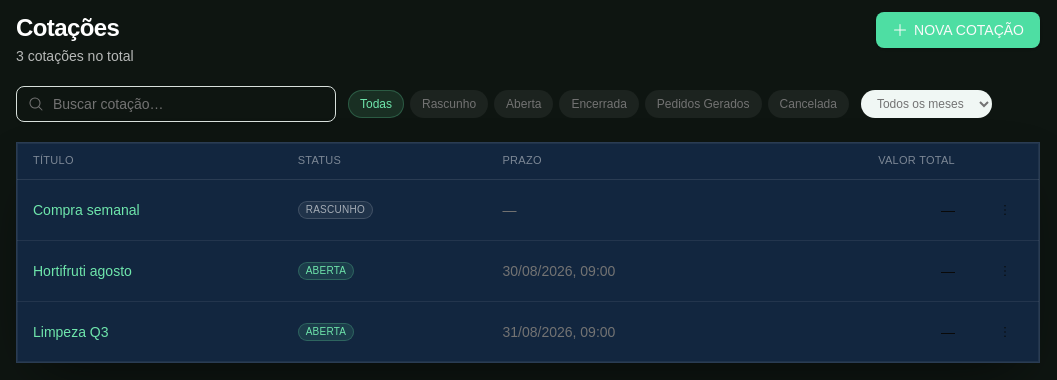
menu de cada linha não tem mais "Duplicar" (só Ver detalhes e Excluir)
The image size is (1057, 380).
Expected: the link "Compra semanal" is shown, x1=33 y1=202 x2=140 y2=218
Click the button named "mais opções" in the row of "Compra semanal" at (1005, 210), box x1=987 y1=192 x2=1023 y2=228
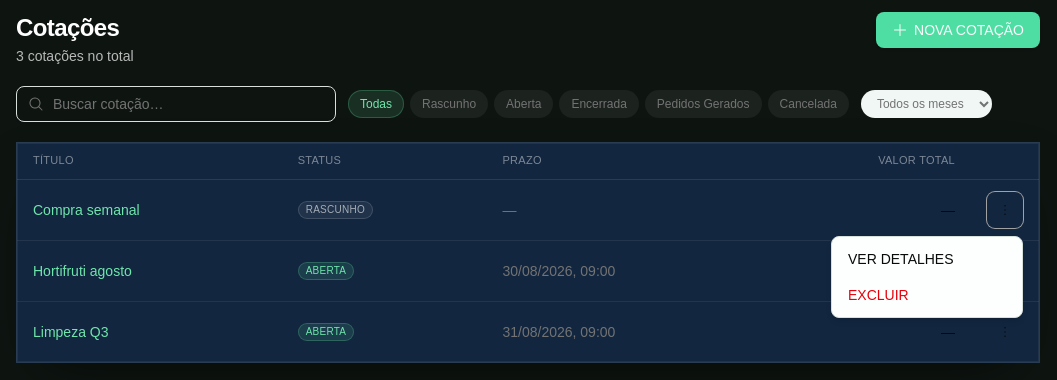
Expected: the menu item "Ver detalhes" is shown, x1=832 y1=241 x2=1022 y2=277
Expected: the menu item "Excluir" is shown, x1=832 y1=277 x2=1022 y2=313
